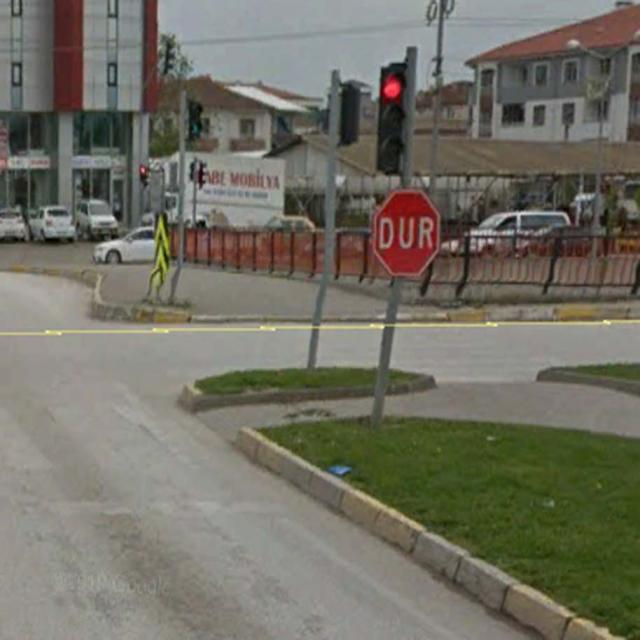dur: (373, 189, 440, 274)
kirmizi: (376, 66, 404, 172)
